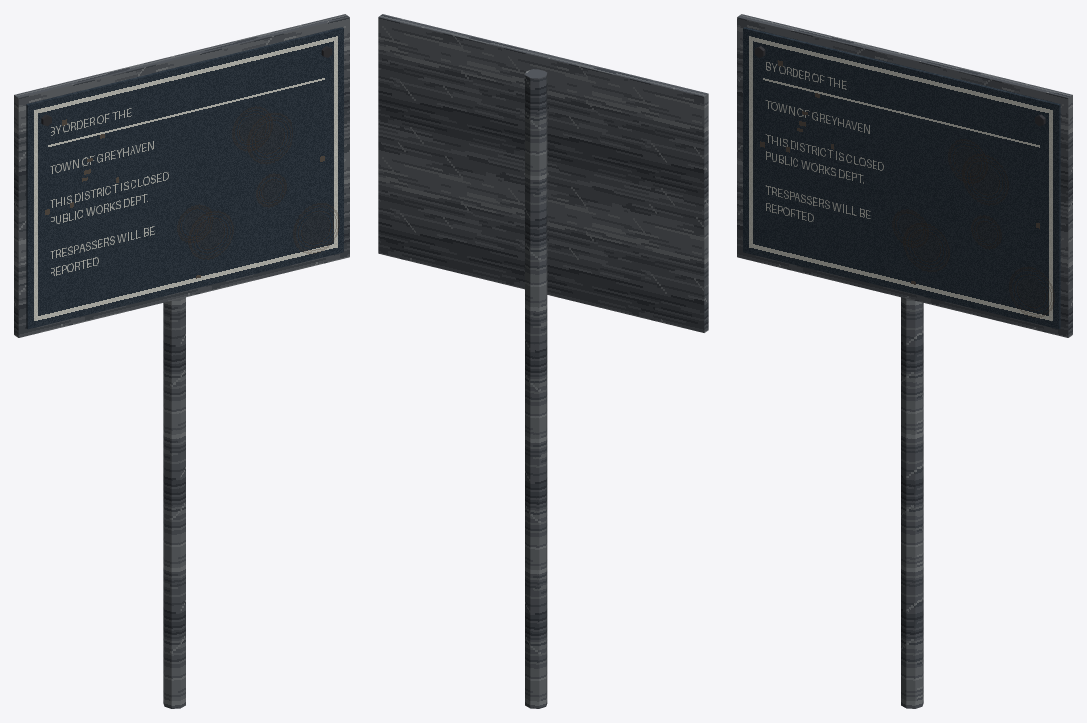
The model's file is DST_Sign_Order.glb.
The picture shows the model from 3 angles, left to right: view 1: azimuth 30°, elevation 25°; view 2: azimuth 150°, elevation 25°; view 3: azimuth 330°, elevation 25°; orthographic projection.
Parts seen in each view (by area): view 1: Face, Backing, Post; view 2: Backing, Post; view 3: Face, Backing, Post.
Boxes of the visible parts, bbox=[...] form: Face: bbox=[26, 27, 343, 329]; Backing: bbox=[14, 14, 349, 337]; Post: bbox=[163, 297, 185, 708]; Backing: bbox=[378, 14, 708, 332]; Post: bbox=[525, 69, 547, 708]; Face: bbox=[743, 27, 1060, 329]; Backing: bbox=[737, 14, 1072, 337]; Post: bbox=[901, 297, 923, 708].
Size of the model in its own units: 1.3 by 2.45 by 0.13.
3 materials, 2 textured.
